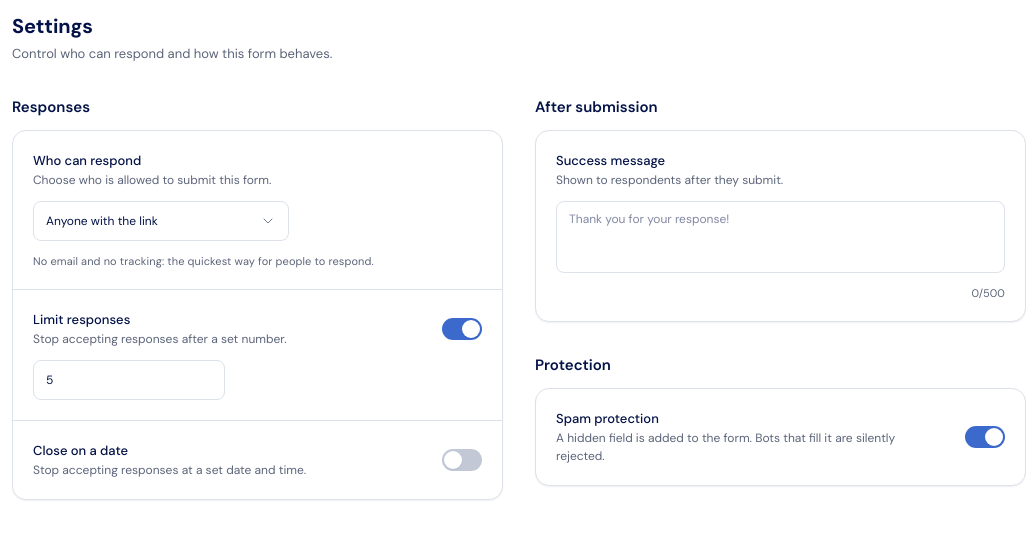
Test case: SettingsPanel: response limit › rejects  with an inline error and does not save
Clear the number field at (129,380), box x1=33 y1=360 x2=225 y2=400
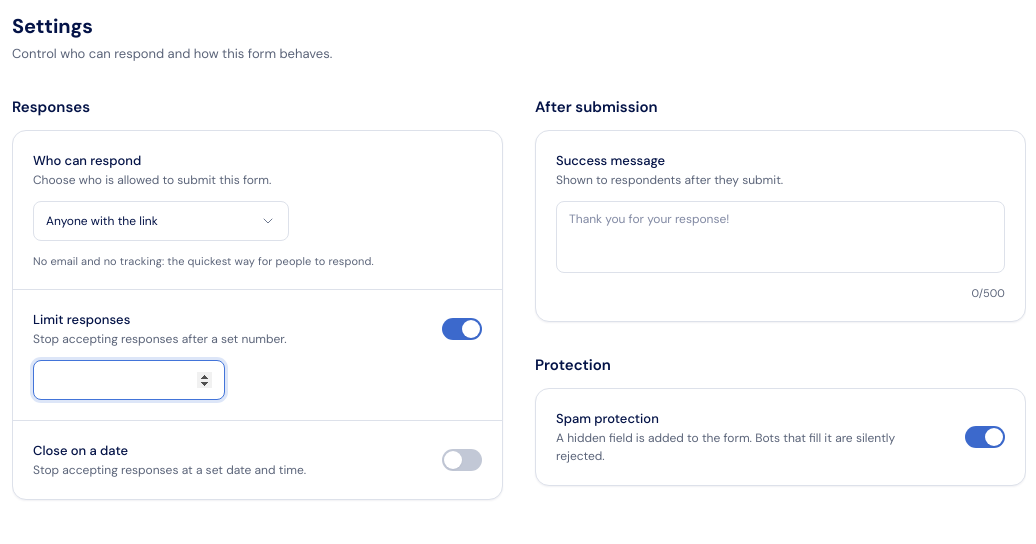
Press Tab
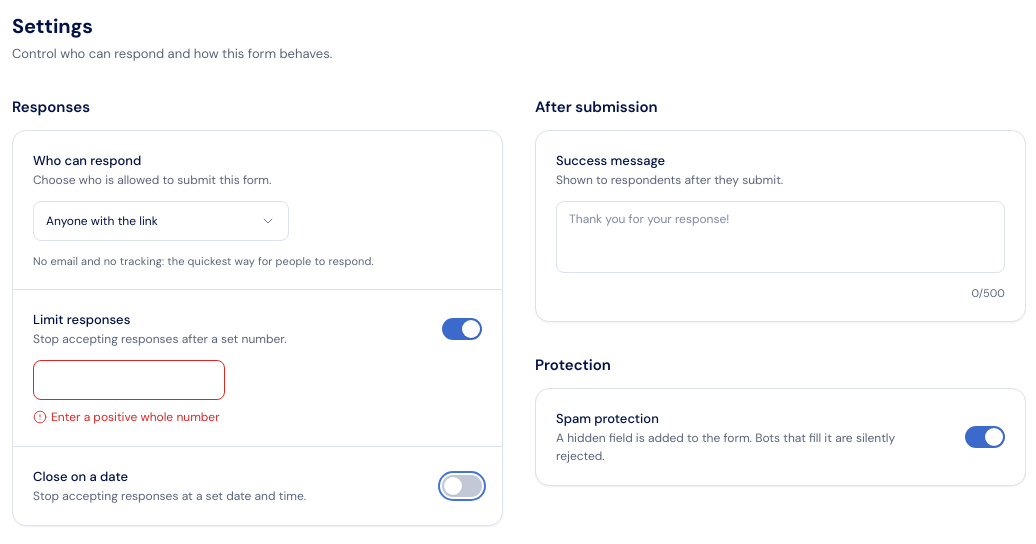
Result: the text "Enter a positive whole number" is shown at x1=33 y1=408 x2=225 y2=426
